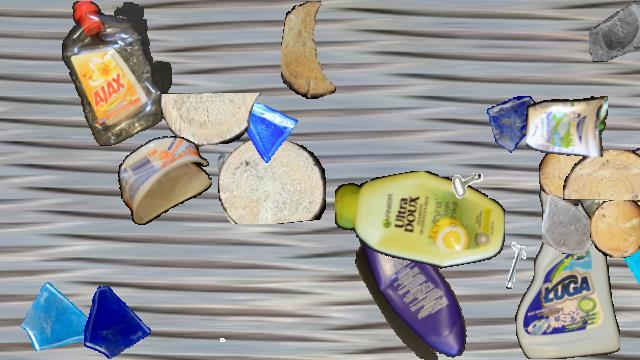glass: (20, 279, 100, 359), (75, 281, 153, 359), (228, 94, 298, 164), (542, 195, 600, 253), (487, 96, 543, 152), (589, 1, 640, 61), (623, 225, 640, 313)
metal: (431, 143, 491, 203), (491, 242, 547, 298), (195, 311, 233, 349)
plastic: (515, 169, 619, 359), (352, 217, 472, 359), (335, 171, 505, 271), (61, 1, 171, 145), (118, 136, 212, 226), (577, 120, 640, 238), (526, 92, 608, 156)
wood: (218, 136, 326, 224), (281, 1, 341, 99), (161, 93, 261, 147), (563, 150, 640, 200), (539, 146, 589, 206), (590, 200, 640, 258)
